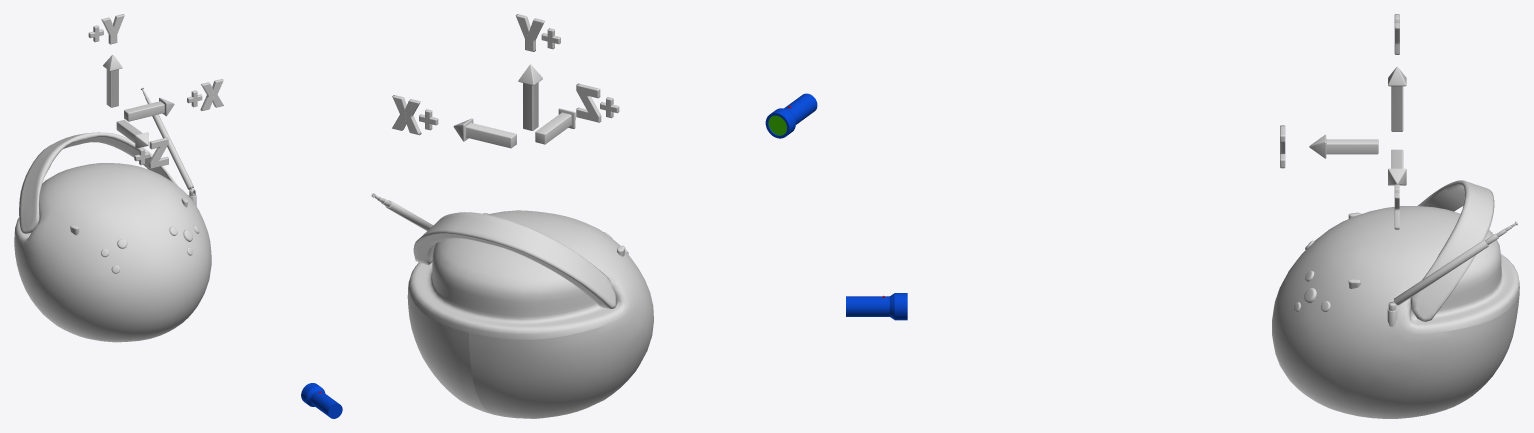
Rendered from lighting-punctual.gltf.
The picture shows the model from 3 angles, left to right: view 1: azimuth 30°, elevation 25°; view 2: azimuth 150°, elevation 25°; view 3: azimuth 270°, elevation 25°; orthographic projection. The views are drawn at different scales.
Visible parts, largest first — view 1: BoomBox, CoordinateSystem, Flashlight_low, X_axis, Z_axis, Y_axis; view 2: BoomBox, CoordinateSystem, Flashlight_low, X_axis, Z_axis, Y_axis; view 3: BoomBox, CoordinateSystem, Flashlight_low.
Boxes of the visible parts, box(x1,y1,x2,y2) form: BoomBox: box(14, 87, 211, 342); CoordinateSystem: box(103, 54, 174, 148); Flashlight_low: box(301, 383, 342, 418); X_axis: box(187, 79, 223, 110); Z_axis: box(134, 137, 168, 168); Y_axis: box(88, 14, 124, 44); BoomBox: box(371, 193, 653, 418); CoordinateSystem: box(453, 64, 575, 148); Flashlight_low: box(765, 93, 817, 138); X_axis: box(392, 95, 438, 135); Z_axis: box(576, 83, 619, 122); Y_axis: box(515, 14, 560, 51); BoomBox: box(1272, 180, 1519, 418); CoordinateSystem: box(1309, 66, 1406, 185); Flashlight_low: box(846, 293, 907, 320).
Size of the model in its own units: 2.28 by 3.34 by 5.47.
